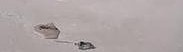Spalling: (32, 21, 61, 41), (72, 40, 97, 51)
